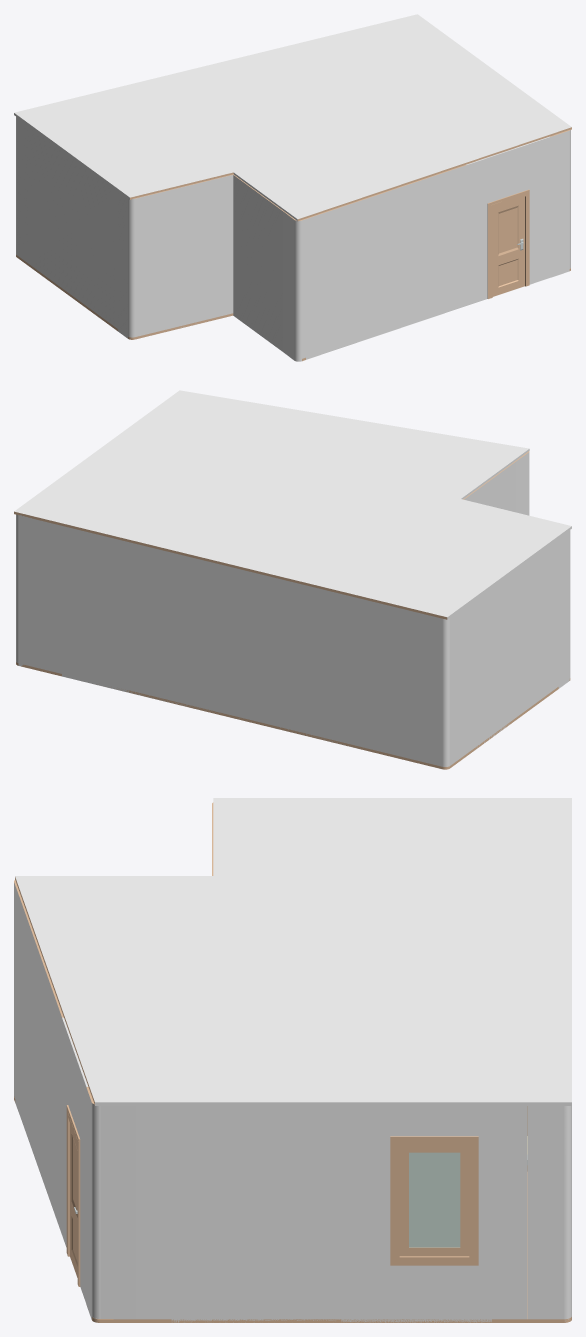
Rendered from room 1.fbx.
3 views of the same model, one above another, from view 1: azimuth 30°, elevation 25°; view 2: azimuth 150°, elevation 25°; view 3: azimuth 270°, elevation 25° (orthographic). The views are drawn at different scales.
Visible parts, largest first — view 1: Ceiling, walls.003, walls.006, walls.005, walls.004, wallDoorway, doorway.002, walls; view 2: Ceiling, walls.001, walls.006, walls.004, walls; view 3: Ceiling, walls.002, walls.003, wallDoorway, walls, doorway.002.
Boxes of the visible parts, box(x1,y1,x2,y2) form: Ceiling: box(14, 14, 571, 221); walls.003: box(299, 130, 568, 359); walls.006: box(16, 117, 128, 338); walls.005: box(133, 174, 233, 336); walls.004: box(233, 174, 295, 360); wallDoorway: box(465, 136, 550, 305); doorway.002: box(490, 193, 527, 298); walls: box(128, 130, 570, 361); Ceiling: box(14, 390, 571, 619); walls.001: box(18, 515, 442, 766); walls.006: box(448, 530, 569, 766); walls.004: box(463, 452, 528, 515); walls: box(16, 451, 570, 766); Ceiling: box(15, 798, 571, 1105); walls.002: box(93, 1103, 563, 1322); walls.003: box(14, 880, 93, 1318); wallDoorway: box(62, 1017, 88, 1303); walls: box(91, 1102, 571, 1321); doorway.002: box(67, 1112, 78, 1285).
Bounding box in the file's own units: 902 × 304 × 697.
